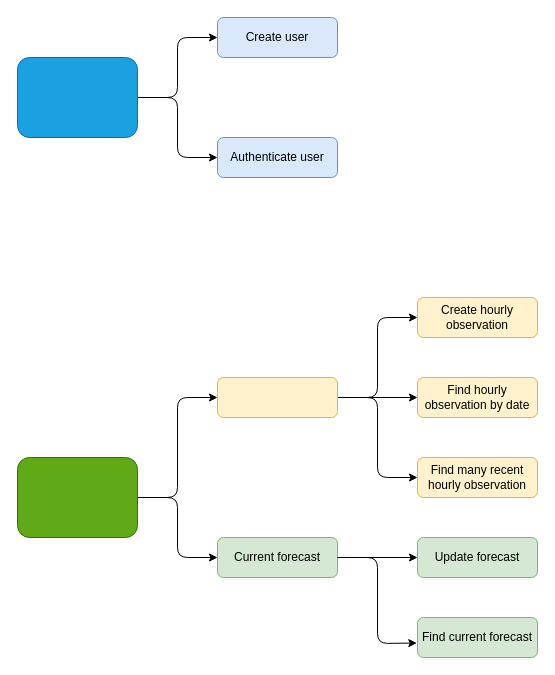
Some shapes in this 555 by 675 pixel diagram are drawn without their labels. The box of each missing label's shape, as (x1, y1, x2, y2) in pixels:
Hourly observation: (216, 376, 338, 418)
User: (16, 56, 138, 138)
Weather log: (16, 456, 138, 538)
